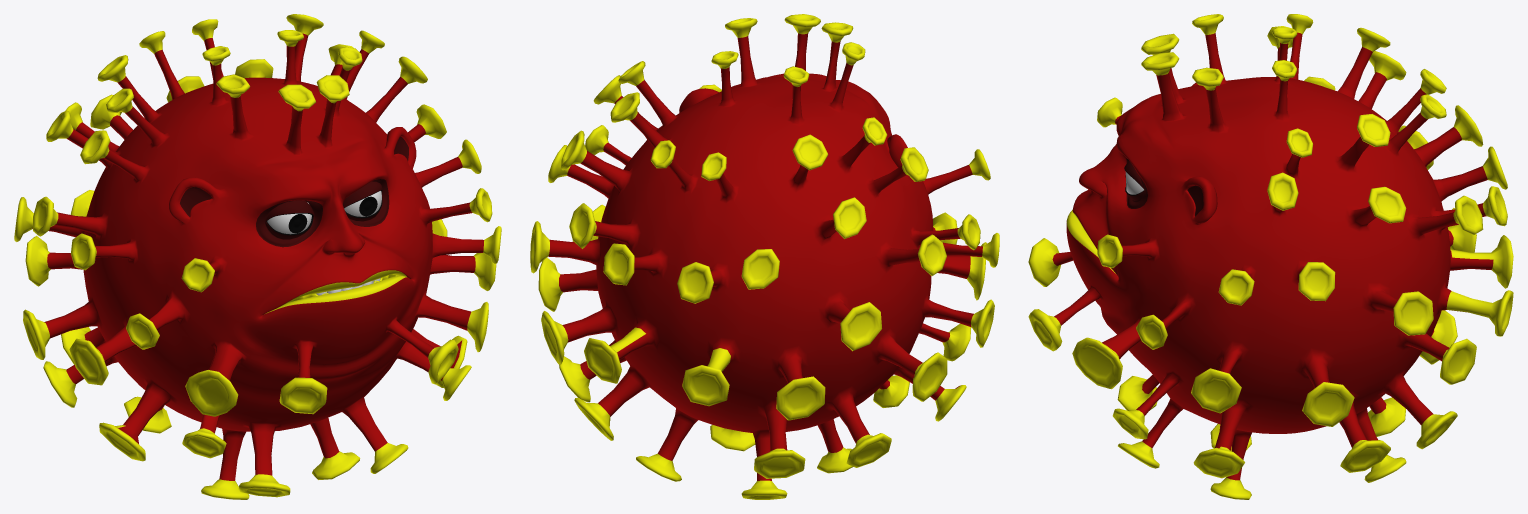
File: Corona_02.fbx
3 views of the same model, side by side, from view 1: azimuth 30°, elevation 25°; view 2: azimuth 150°, elevation 25°; view 3: azimuth 270°, elevation 25° (orthographic). The views are drawn at different scales.
Visible parts, largest first — view 1: Corona_02:polySurface2; view 2: Corona_02:polySurface2; view 3: Corona_02:polySurface2.
Boxes of the visible parts, box(x1,y1,x2,y2) form: Corona_02:polySurface2: box(14, 14, 501, 499); Corona_02:polySurface2: box(530, 14, 999, 499); Corona_02:polySurface2: box(1028, 14, 1513, 499).
Bounding box in the file's own units: 11.62 × 11.6 × 11.84.
